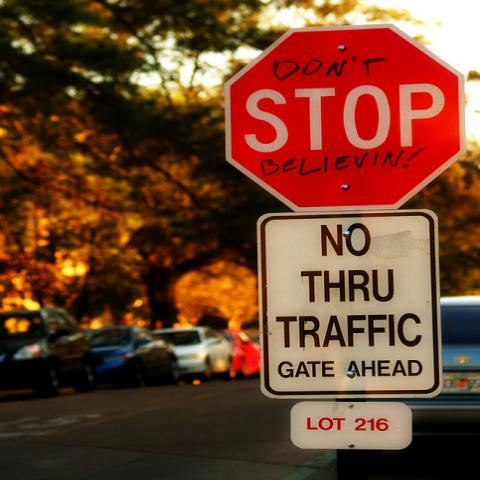car: (0, 306, 98, 398), (412, 293, 478, 426), (84, 323, 180, 391), (154, 326, 220, 376), (216, 326, 260, 379)
